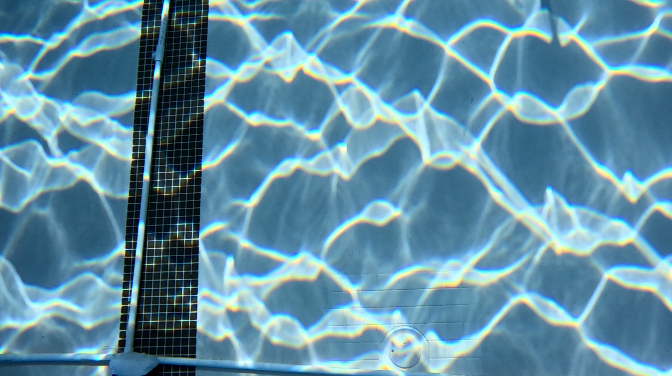sandbag: (111, 354, 159, 375)
